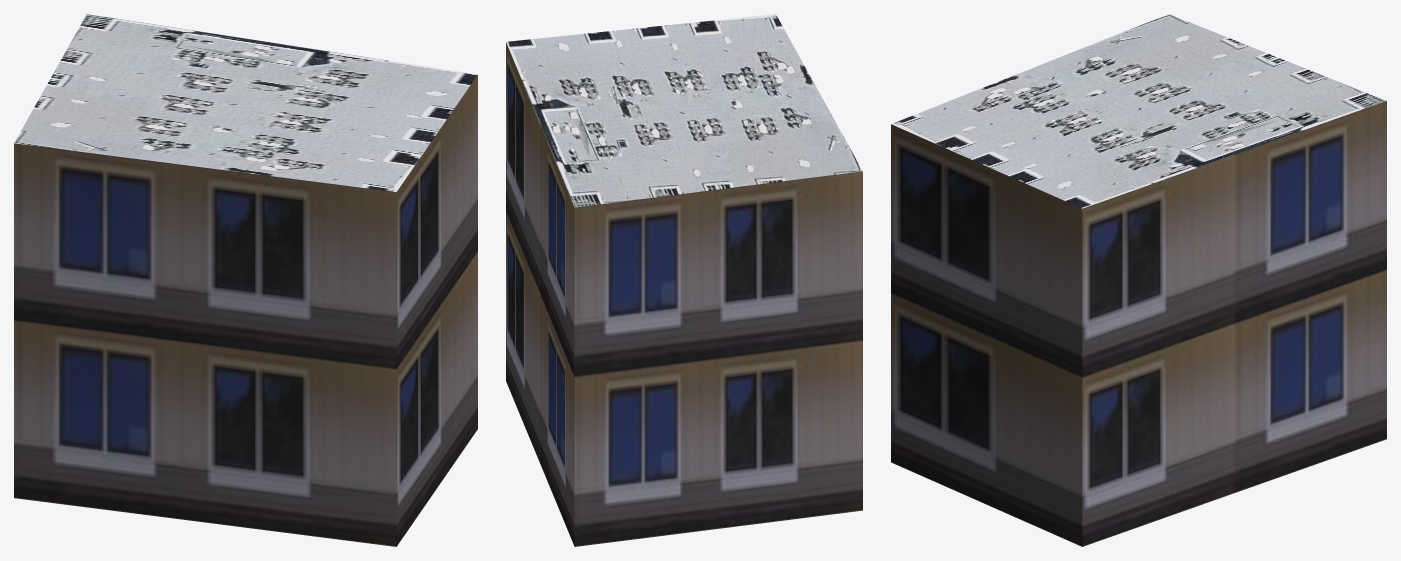
Rendered from ResTex__4150.fbx.
The picture shows the model from 3 angles, left to right: view 1: azimuth 30°, elevation 25°; view 2: azimuth 150°, elevation 25°; view 3: azimuth 270°, elevation 25°; orthographic projection. The views are drawn at different scales.
Visible parts, largest first — view 1: CityEngineMaterial_5_m, CityEngineMaterial_m; view 2: CityEngineMaterial_5_m, CityEngineMaterial_m; view 3: CityEngineMaterial_5_m, CityEngineMaterial_m.
Boxes of the visible parts, box(x1,y1,x2,y2) form: CityEngineMaterial_5_m: box(14, 75, 477, 546); CityEngineMaterial_m: box(14, 14, 477, 191); CityEngineMaterial_5_m: box(506, 42, 862, 546); CityEngineMaterial_m: box(506, 14, 862, 207); CityEngineMaterial_5_m: box(891, 101, 1386, 546); CityEngineMaterial_m: box(891, 14, 1386, 208).
Bounding box in the file's own units: 7.41 × 6 × 7.97.
2 materials, 2 textured.
